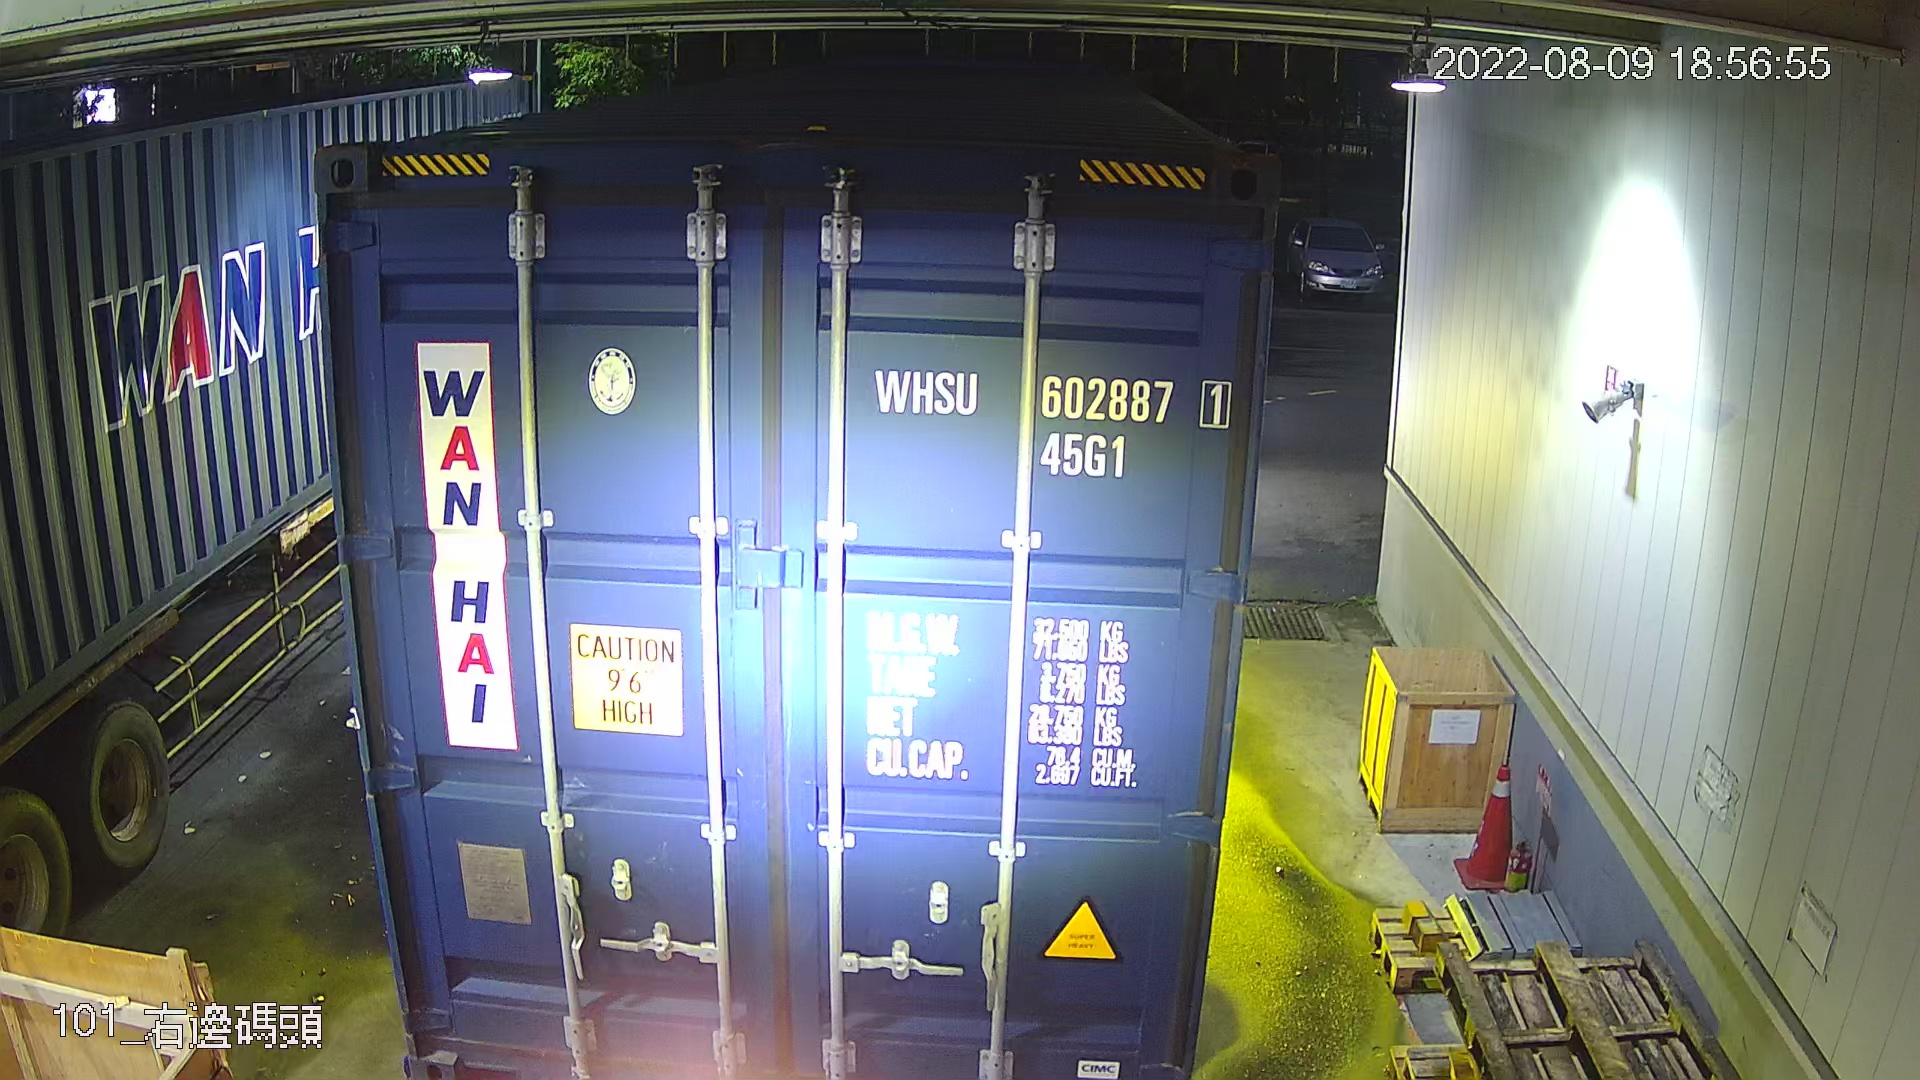container: (862, 357, 1237, 483)
